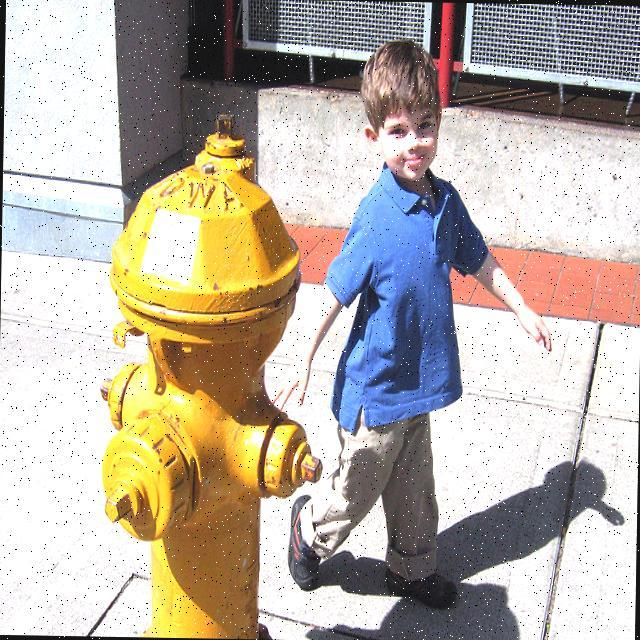fire_hydrant: (95, 110, 328, 640)
